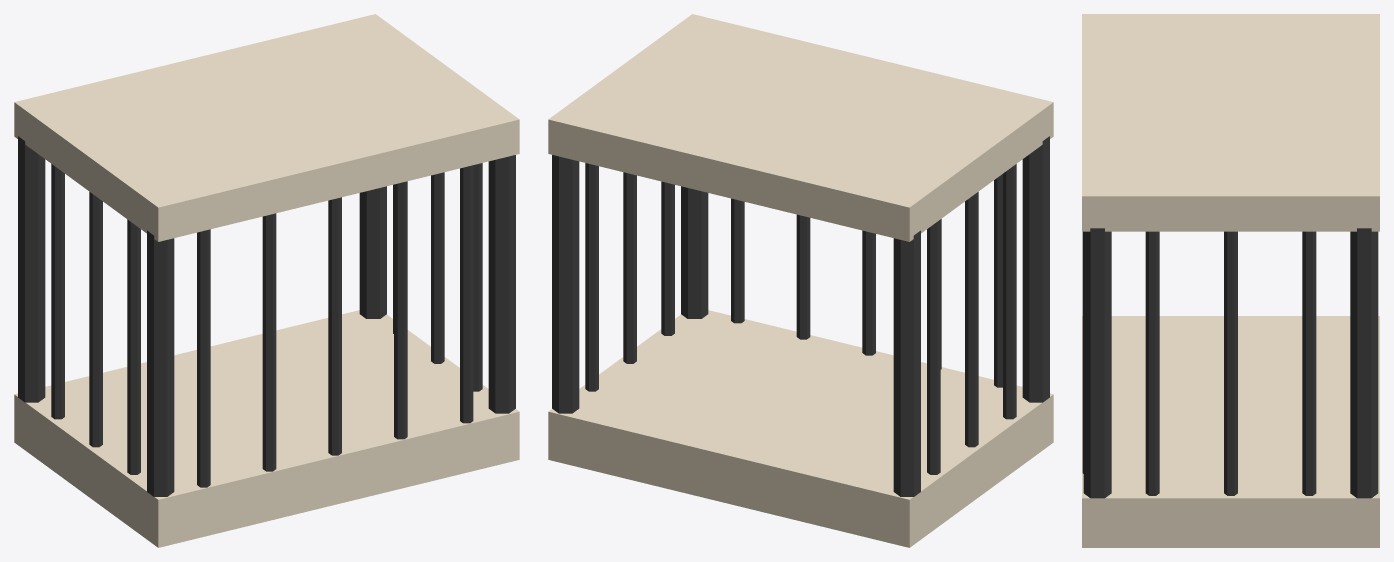
3 renders of one model, left to right at view 1: azimuth 30°, elevation 25°; view 2: azimuth 150°, elevation 25°; view 3: azimuth 270°, elevation 25°, orthographic. The views are drawn at different scales.
Visible parts, largest first — view 1: Roof, Floor, Corner, Corner.002, Corner.001, Door bar.001, Corner.003, Door bar, Door bar.003, Door bar.004, Door bar.002, Side bar.002 (+4 smaller); view 2: Roof, Floor, Corner.001, Corner.003, Corner, Corner.002, Side bar.002, Side bar, Side bar.004, Side bar.005, Side bar.003, Side bar.001 (+4 smaller); view 3: Roof, Floor, Corner.002, Corner.003, Side bar.001, Side bar.005, Side bar.003, Door bar.004.
Boxes of the visible parts, bbox=[...] form: Roof: bbox=[14, 14, 519, 241]; Floor: bbox=[14, 310, 519, 547]; Corner: bbox=[147, 230, 174, 496]; Corner.002: bbox=[488, 155, 515, 413]; Corner.001: bbox=[18, 136, 45, 402]; Door bar.001: bbox=[262, 213, 276, 471]; Corner.003: bbox=[359, 186, 386, 318]; Door bar: bbox=[197, 229, 210, 487]; Door bar.003: bbox=[394, 181, 407, 439]; Door bar.004: bbox=[460, 165, 473, 423]; Door bar.002: bbox=[328, 197, 341, 455]; Side bar.002: bbox=[89, 192, 102, 447]; Roof: bbox=[548, 14, 1053, 241]; Floor: bbox=[548, 310, 1053, 547]; Corner.001: bbox=[893, 230, 920, 496]; Corner.003: bbox=[552, 155, 579, 413]; Corner: bbox=[1022, 136, 1049, 402]; Corner.002: bbox=[681, 186, 708, 318]; Side bar.002: bbox=[965, 192, 978, 447]; Side bar: bbox=[1003, 164, 1016, 419]; Side bar.004: bbox=[927, 219, 940, 474]; Side bar.005: bbox=[585, 163, 598, 391]; Side bar.003: bbox=[623, 172, 636, 363]; Side bar.001: bbox=[661, 181, 674, 335]; Roof: bbox=[1082, 14, 1379, 231]; Floor: bbox=[1082, 316, 1379, 547]; Corner.002: bbox=[1083, 228, 1111, 498]; Corner.003: bbox=[1350, 228, 1378, 498]; Side bar.001: bbox=[1145, 231, 1159, 495]; Side bar.005: bbox=[1302, 231, 1316, 495]; Side bar.003: bbox=[1224, 231, 1237, 495]; Door bar.004: bbox=[1082, 231, 1083, 473].
Size of the model in its own units: 55.12 by 49.5 by 38.
